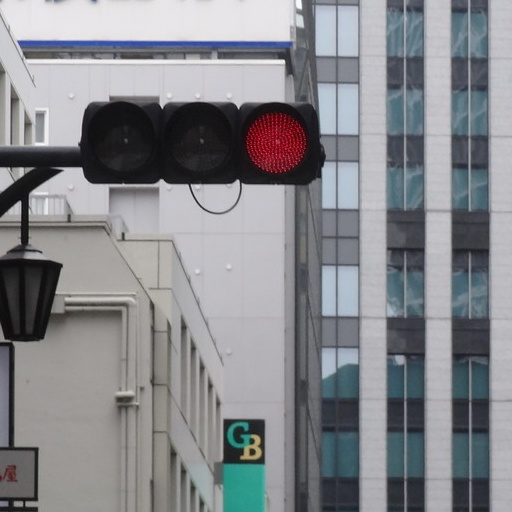Traffic_Signal_Red: (80, 94, 319, 191)
